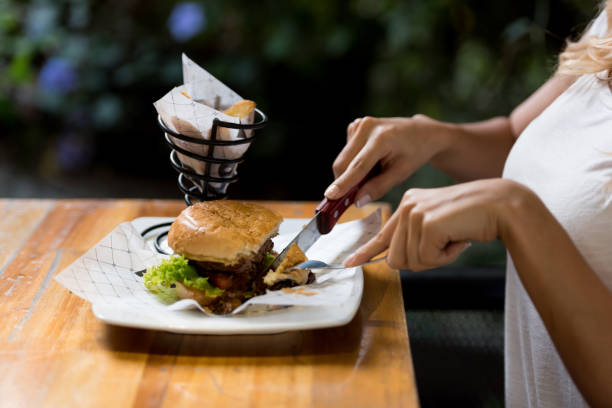knife: (261, 182, 361, 274)
